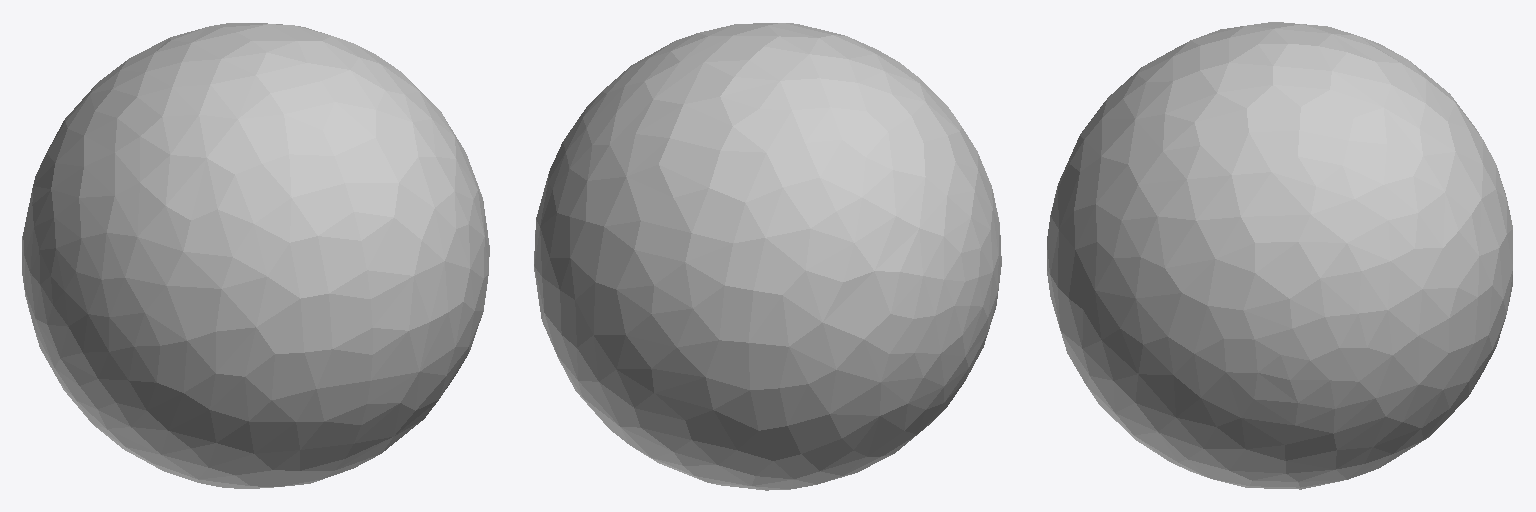
3 views of the same model, side by side, from view 1: azimuth 30°, elevation 25°; view 2: azimuth 150°, elevation 25°; view 3: azimuth 270°, elevation 25° (orthographic).
Parts seen in each view (by area): view 1: eye; view 2: eye; view 3: eye.
Boxes of the visible parts, x1,y1,x2,y2 form: eye: [22, 23, 489, 488]; eye: [534, 23, 1001, 490]; eye: [1047, 22, 1512, 489].
Size of the model in its own units: 3.36 by 3.37 by 3.35.